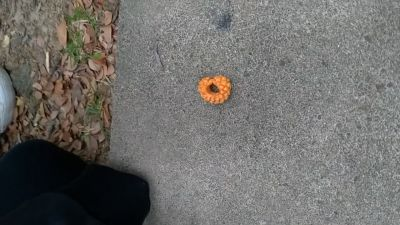eggs: (197, 74, 233, 103)
